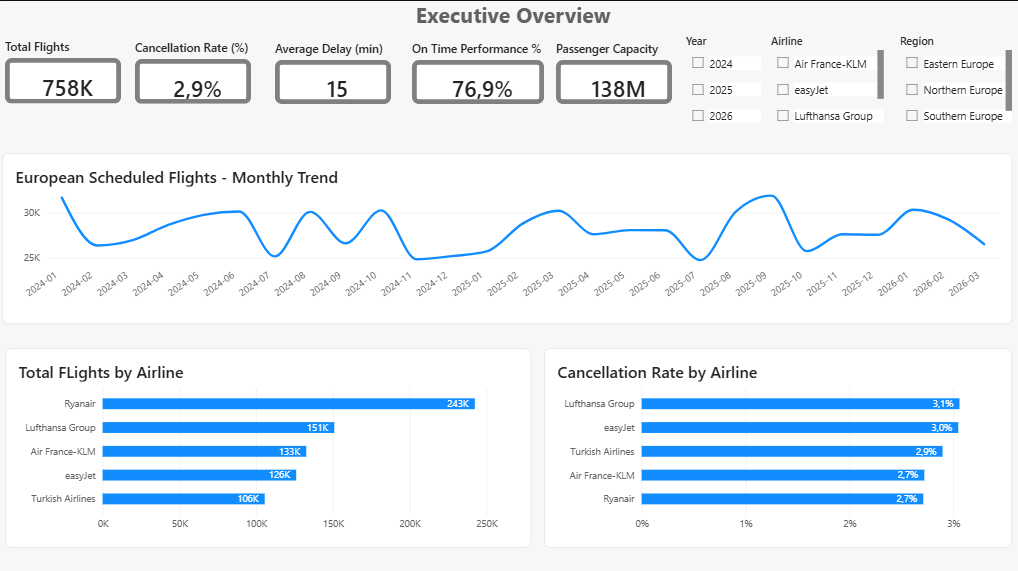

Layout of this report page (visuals, bound fields, positions):
{"tool":"powerbi","page":{"name":"Executive Overview","canvas":[1280,720],"ordinal":0},"visuals":[{"type":"textbox","box":[9.3,0,1270.7,48.1],"z":0},{"type":"cardVisual","title":"Total Flights","fields":{"Data":["european_air_traffic_detailed.Total FLights"]},"box":[8.8,47.5,145,82.5],"z":1000},{"type":"cardVisual","title":"Cancellation Rate (%)","fields":{"Data":["european_air_traffic_detailed.Cancellation Rate"]},"box":[171.2,48.8,145,81.2],"z":2000},{"type":"cardVisual","title":"Average Delay (min)","fields":{"Data":["european_air_traffic_detailed.Average Delay (min)"]},"box":[346.2,50,145,80],"z":3000},{"type":"cardVisual","title":"On Time Performance %","fields":{"Data":["european_air_traffic_detailed.On Time Perfromance"]},"box":[517.5,50,165,80],"z":4000},{"type":"cardVisual","title":"Passenger Capacity","fields":{"Data":["european_air_traffic_detailed.Passenger Capacity"]},"box":[697.5,50,145,80],"z":5000},{"type":"lineChart","title":"European Scheduled Flights - Monthly Trend","fields":{"Y":["european_air_traffic_detailed.Total FLights"],"Category":["european_air_traffic_detailed.Month Sort"]},"box":[5,191.2,1262.5,213.8],"z":6000},{"type":"clusteredBarChart","title":"Total FLights by Airline","fields":{"Category":["european_air_traffic_detailed.airline"],"Y":["european_air_traffic_detailed.Total FLights"]},"box":[8.8,435,657.5,250],"z":7000},{"type":"clusteredBarChart","title":"Cancellation Rate by Airline","fields":{"Category":["european_air_traffic_detailed.airline"],"Y":["european_air_traffic_detailed.Cancellation Rate"]},"box":[682.5,435,585,250],"z":8000},{"type":"slicer","title":"Year","fields":{"Values":["european_air_traffic_detailed.month.Variation.Date Hierarchy.Year"]},"box":[860,42.5,93.8,120],"z":9000},{"type":"slicer","title":"Airline","fields":{"Values":["european_air_traffic_detailed.airline"]},"box":[966.2,42.5,141.2,120],"z":10000},{"type":"slicer","title":"Region","fields":{"Values":["european_air_traffic_detailed.region"]},"box":[1127.5,42.5,140,120],"z":11000}]}

Visuals, with their boxes in screenshot pixels (x1, y1, x2, y2), scaled from the page's 1280x720 canvas onto the 1018x571 screenshot:
textbox: crop(7, 0, 1017, 38)
"Total Flights" cardVisual: crop(7, 38, 122, 103)
"Cancellation Rate (%)" cardVisual: crop(136, 39, 251, 103)
"Average Delay (min)" cardVisual: crop(275, 40, 391, 103)
"On Time Performance %" cardVisual: crop(412, 40, 543, 103)
"Passenger Capacity" cardVisual: crop(555, 40, 670, 103)
"European Scheduled Flights - Monthly Trend" lineChart: crop(4, 152, 1008, 321)
"Total FLights by Airline" clusteredBarChart: crop(7, 345, 530, 543)
"Cancellation Rate by Airline" clusteredBarChart: crop(543, 345, 1008, 543)
"Year" slicer: crop(684, 34, 759, 129)
"Airline" slicer: crop(768, 34, 881, 129)
"Region" slicer: crop(897, 34, 1008, 129)
